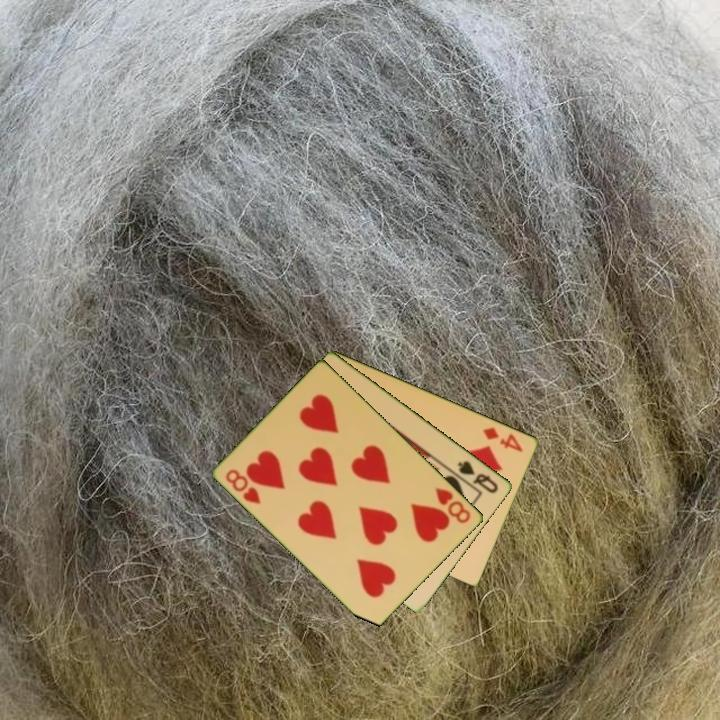4d: (480, 423, 526, 455)
8h: (432, 484, 474, 526), (222, 465, 264, 507)
Qs: (454, 457, 502, 496)
